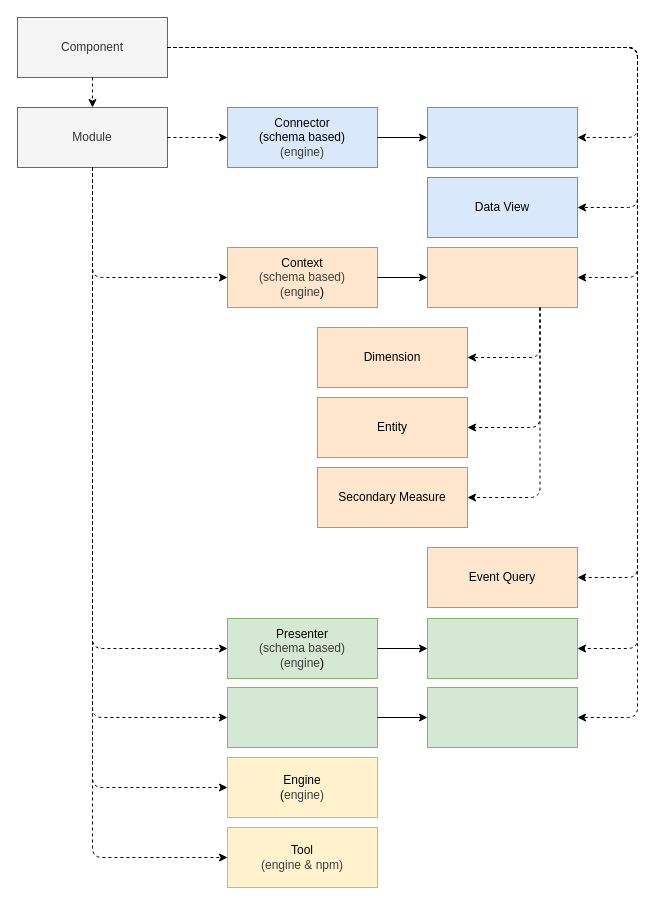
This 663x905 diagram has some shape labels left out. Each missing label, with the centre of its shape:
"Connection" goes at point 502,137.
"Cookbook (schema based) ( engine )" goes at point 302,717.
"Model" goes at point 502,277.
"Presentation" goes at point 502,648.
"Recipe" goes at point 502,717.
